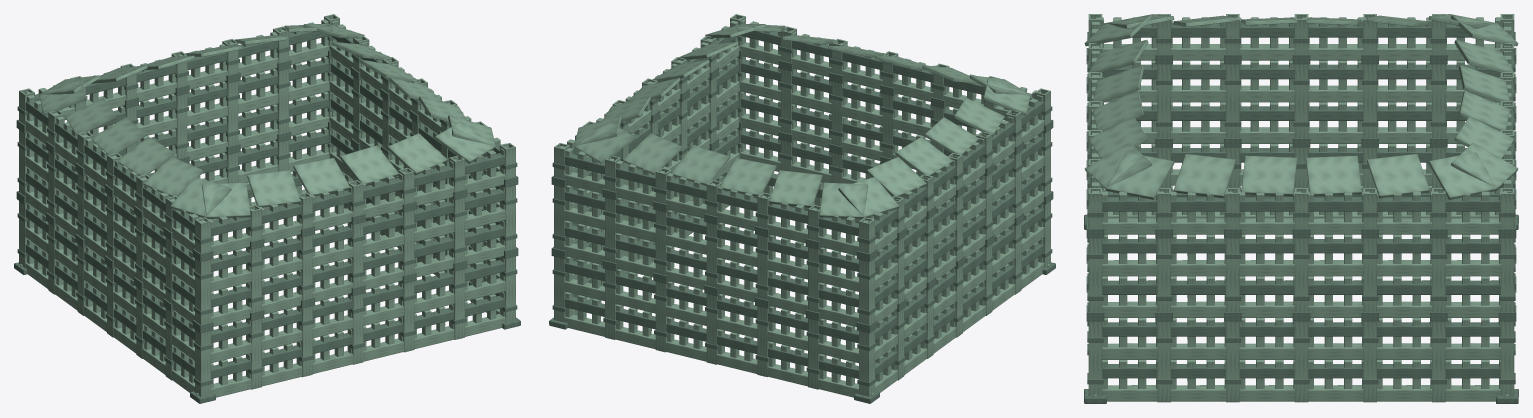
3 views of the same model, side by side, from view 1: azimuth 30°, elevation 25°; view 2: azimuth 150°, elevation 25°; view 3: azimuth 270°, elevation 25° (orthographic). The views are drawn at different scales.
Visible parts, largest first — view 1: Crown alloy petal 0-1, Crown alloy petal 0-2, Crown alloy petal 0-3, Crown alloy petal 0-4, Crown alloy petal 3-4, Crown alloy petal 0-0, Crown alloy petal 3-3, Crown alloy petal 3-5, Crown alloy petal 0-5, Crown alloy petal 3-2, Crown alloy petal 3-1, Tier 0 side 0 post 0 (+112 smaller); view 2: Crown alloy petal 2-4, Crown alloy petal 2-3, Crown alloy petal 2-2, Crown alloy petal 2-1, Crown alloy petal 3-1, Crown alloy petal 2-5, Crown alloy petal 3-2, Crown alloy petal 3-0, Crown alloy petal 2-0, Crown alloy petal 3-3, Crown alloy petal 3-4, Crown alloy petal 3-5 (+112 smaller); view 3: Crown alloy petal 1-1, Crown alloy petal 1-4, Crown alloy petal 1-2, Crown alloy petal 1-3, Crown alloy petal 1-5, Crown alloy petal 1-0, Crown alloy petal 0-5, Crown alloy petal 2-0, Crown alloy petal 2-1, Crown alloy petal 0-4, Crown alloy petal 2-2, Crown alloy petal 0-3 (+131 smaller).
Part boxes in pixels (box(x1,y1,x2,y2)): Crown alloy petal 0-1: box(247, 170, 300, 207); Crown alloy petal 0-2: box(293, 158, 350, 196); Crown alloy petal 0-3: box(340, 145, 398, 184); Crown alloy petal 0-4: box(387, 133, 447, 175); Crown alloy petal 3-4: box(143, 157, 203, 196); Crown alloy petal 0-0: box(202, 182, 250, 218); Crown alloy petal 3-3: box(117, 137, 174, 175); Crown alloy petal 3-5: box(170, 177, 231, 217); Crown alloy petal 0-5: box(434, 121, 495, 163); Crown alloy petal 3-2: box(91, 117, 145, 154); Crown alloy petal 3-1: box(65, 97, 116, 136); Tier 0 side 0 post 0: box(195, 330, 210, 396); Crown alloy petal 2-4: box(769, 170, 822, 207); Crown alloy petal 2-3: box(720, 158, 776, 196); Crown alloy petal 2-2: box(671, 145, 729, 185); Crown alloy petal 2-1: box(622, 133, 682, 175); Crown alloy petal 3-1: box(866, 157, 926, 196); Crown alloy petal 2-5: box(819, 182, 867, 218); Crown alloy petal 3-2: box(895, 137, 952, 175); Crown alloy petal 3-0: box(838, 177, 899, 217); Crown alloy petal 2-0: box(574, 121, 635, 163); Crown alloy petal 3-3: box(924, 117, 978, 154); Crown alloy petal 3-4: box(953, 97, 1004, 136); Crown alloy petal 3-5: box(983, 78, 1030, 115); Crown alloy petal 1-1: box(1173, 154, 1235, 198); Crown alloy petal 1-4: box(1367, 154, 1429, 198); Crown alloy petal 1-2: box(1241, 155, 1297, 196); Crown alloy petal 1-3: box(1305, 155, 1361, 196); Crown alloy petal 1-5: box(1428, 152, 1496, 199); Crown alloy petal 1-0: box(1106, 152, 1174, 199); Crown alloy petal 0-5: box(1084, 143, 1152, 190); Crown alloy petal 2-0: box(1450, 143, 1518, 190); Crown alloy petal 2-1: box(1454, 116, 1514, 158); Crown alloy petal 0-4: box(1088, 116, 1148, 158); Crown alloy petal 2-2: box(1459, 90, 1510, 131); Crown alloy petal 0-3: box(1093, 90, 1143, 131).
Bounding box in the file's own units: 2.85 × 1.62 × 2.85.
2 materials, 2 textured.
